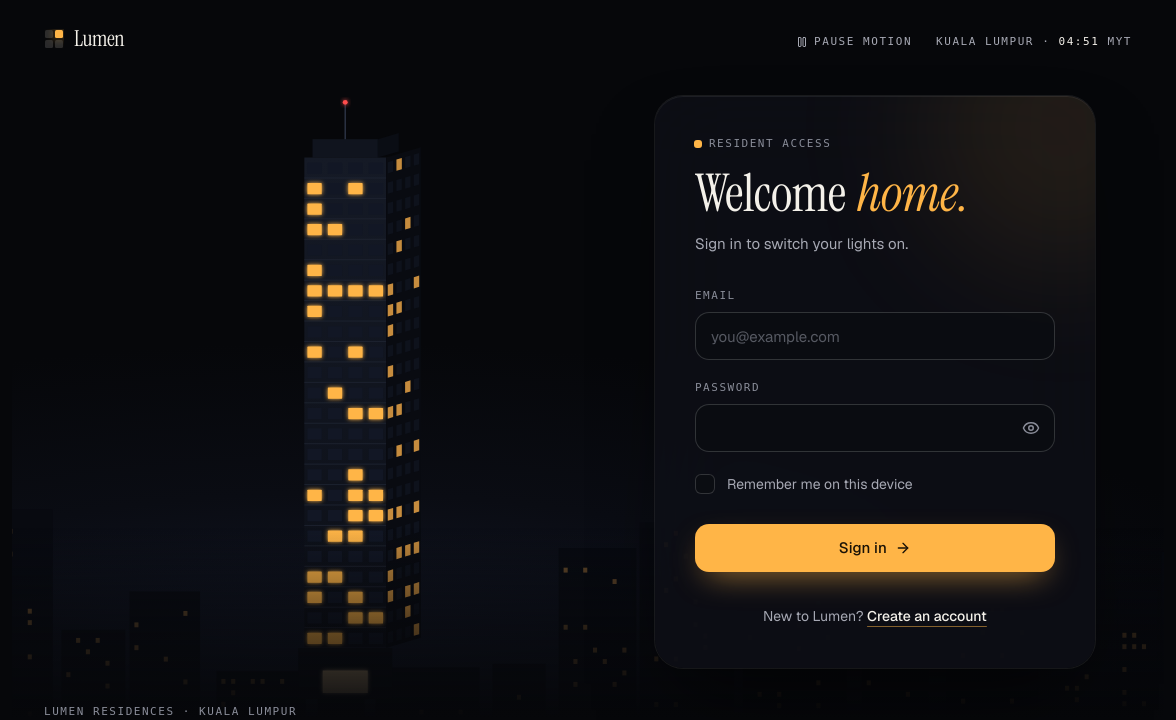
Test: Sign-in page › validates on submit, links errors to fields and focuses the first invalid one
The width and height of the screenshot is (1176, 720).
Click the button "Sign in" at (875, 548), box [695,524,1055,572]
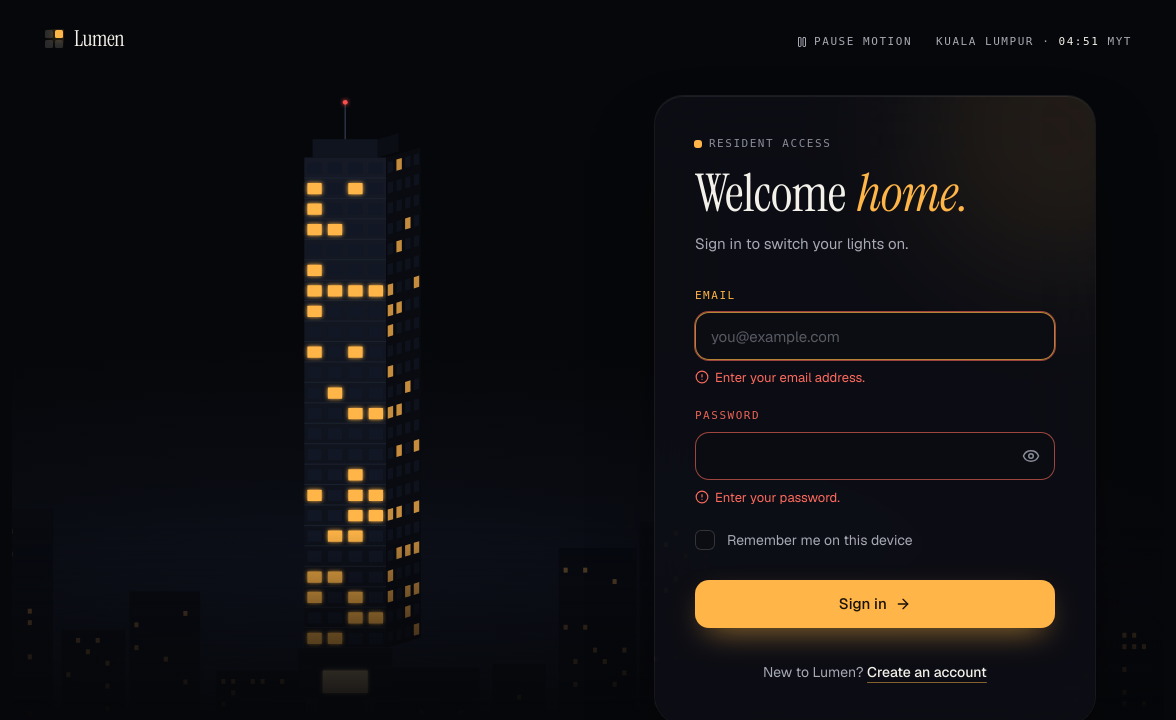
Check: the text "Enter your email address." is shown, box [715,368,865,388]
Check: the text "Enter your password." is shown, box [715,488,840,508]
